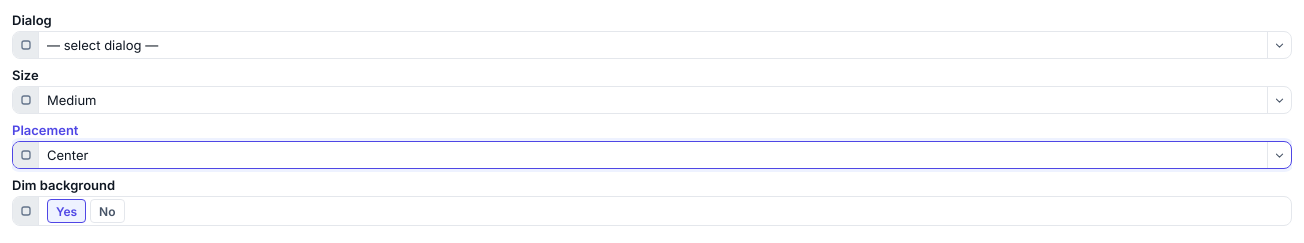
overlay target pickers offer one root each › Open Dialog lists the Dialogs folder only
Click the dropdown labelled "— select dialog —": point(103, 45) x1=47 y1=32 x2=1291 y2=58
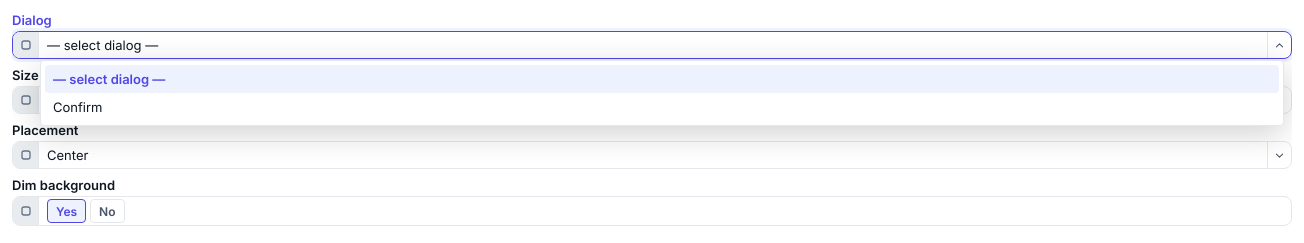
expect the option "Confirm" is shown: met, box x1=53 y1=99 x2=102 y2=115
